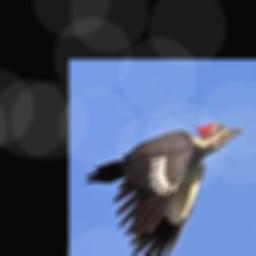Woodpecker: (85, 122, 243, 256)
